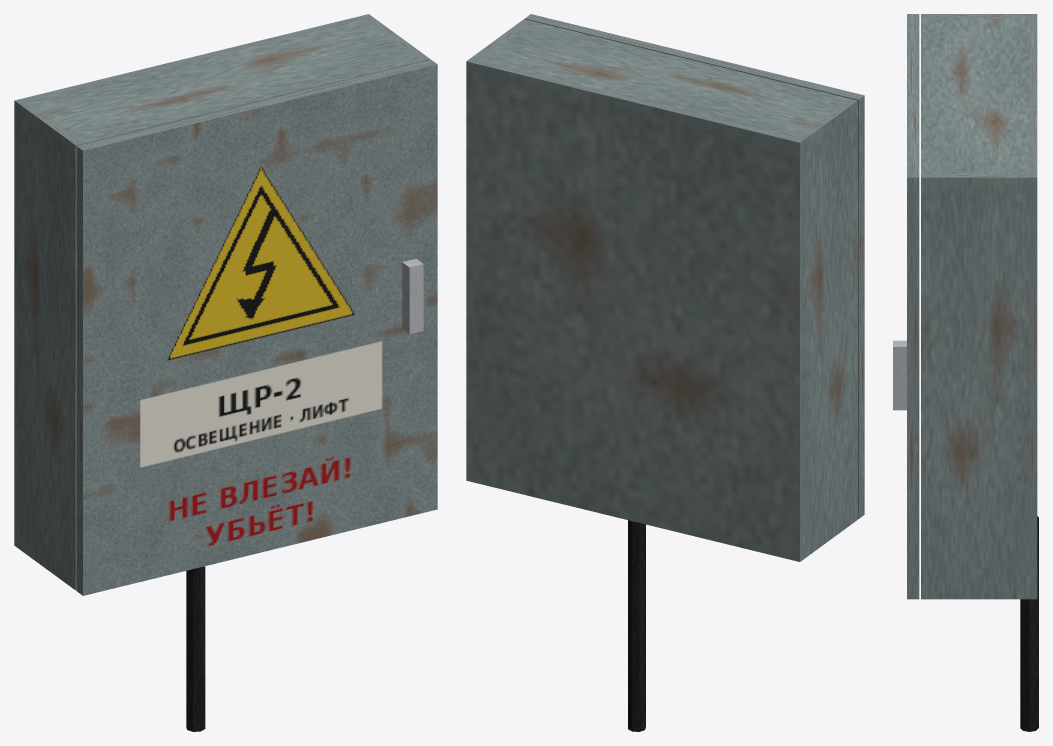
File: FuseBox.fbx
3 renders of one model, left to right at view 1: azimuth 30°, elevation 25°; view 2: azimuth 150°, elevation 25°; view 3: azimuth 270°, elevation 25°, orthographic. The views are drawn at different scales.
Parts seen in each view (by area): view 1: FuseBox_Door, FuseBox; view 2: FuseBox, FuseBox_Door; view 3: FuseBox, FuseBox_Door.
Part boxes in pixels (x1,y1,x2,y2): FuseBox_Door: [76, 59, 437, 595]; FuseBox: [14, 14, 430, 731]; FuseBox: [466, 19, 857, 731]; FuseBox_Door: [524, 14, 864, 518]; FuseBox: [921, 14, 1038, 731]; FuseBox_Door: [893, 14, 919, 599].
Bounding box in the file's own units: 0.5 × 0.9 × 0.188.
2 materials, 2 textured.
